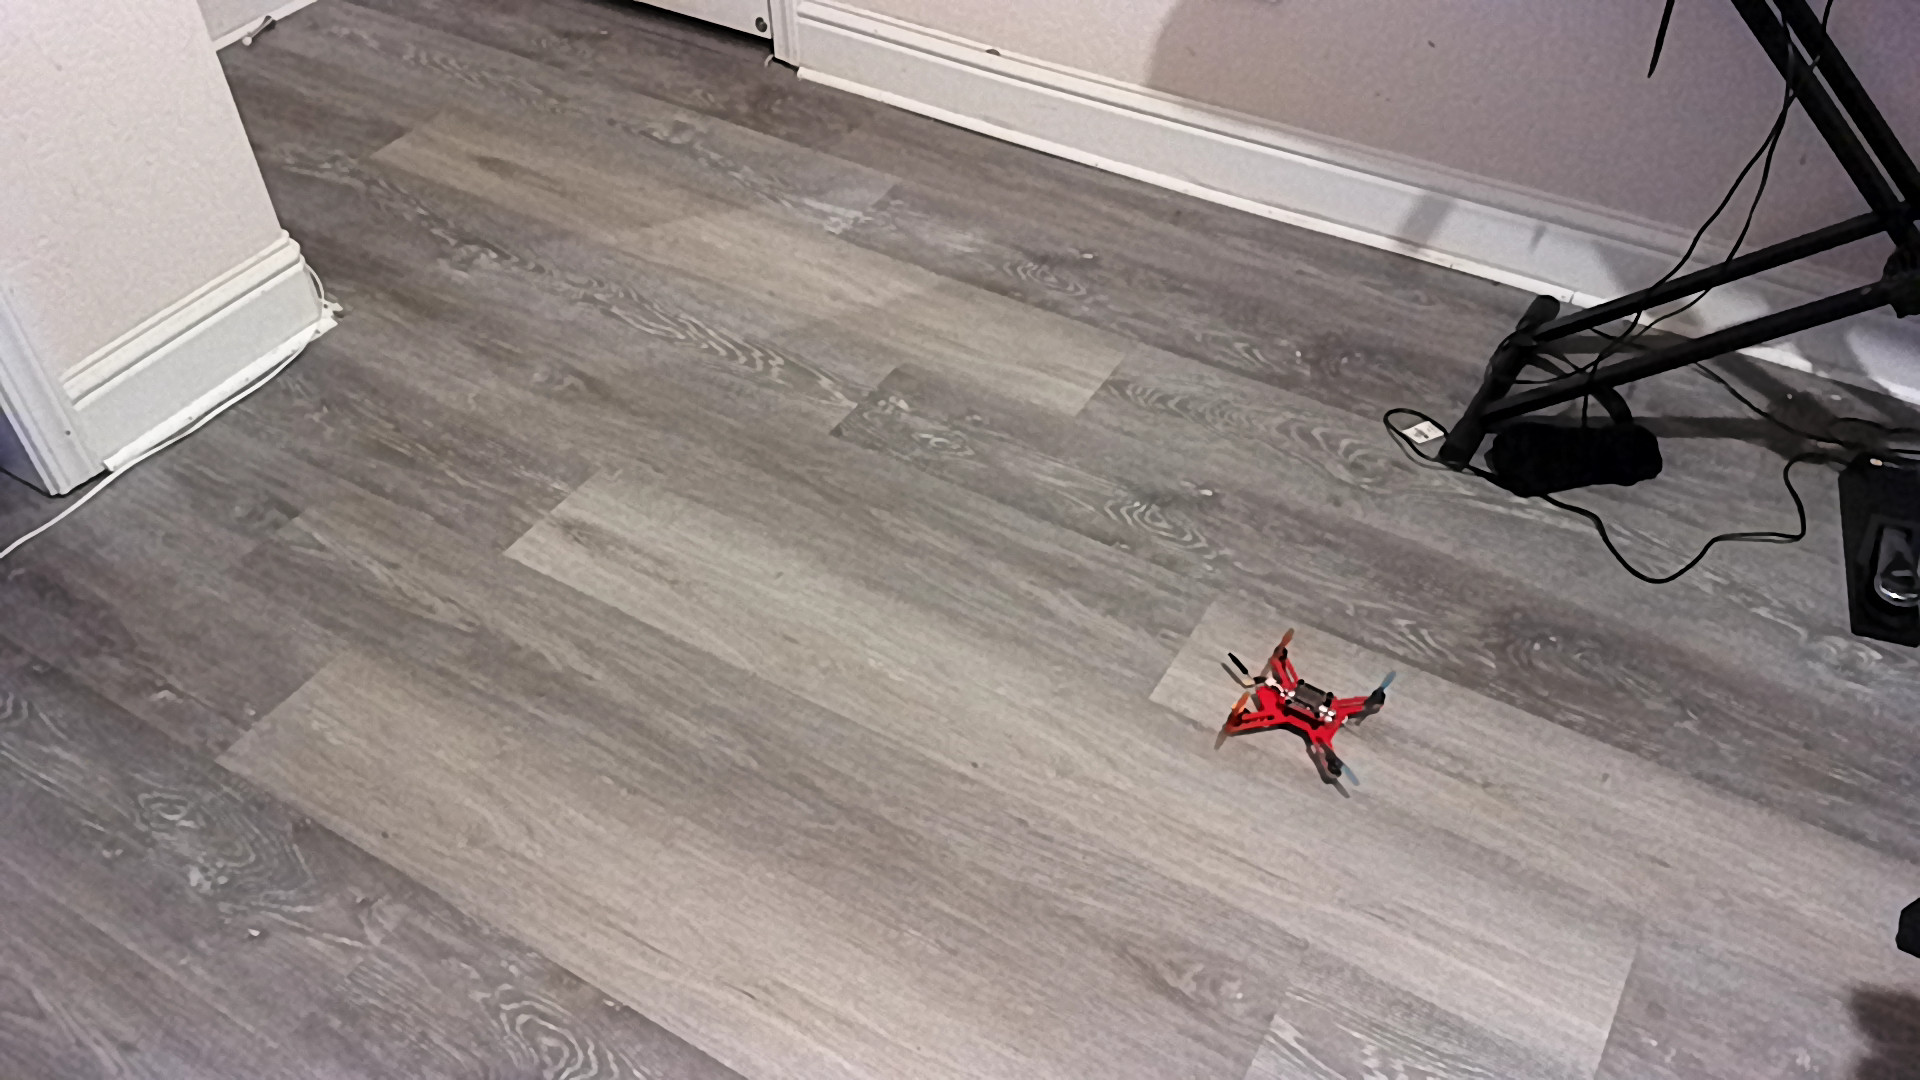drone: (1205, 628, 1402, 793)
